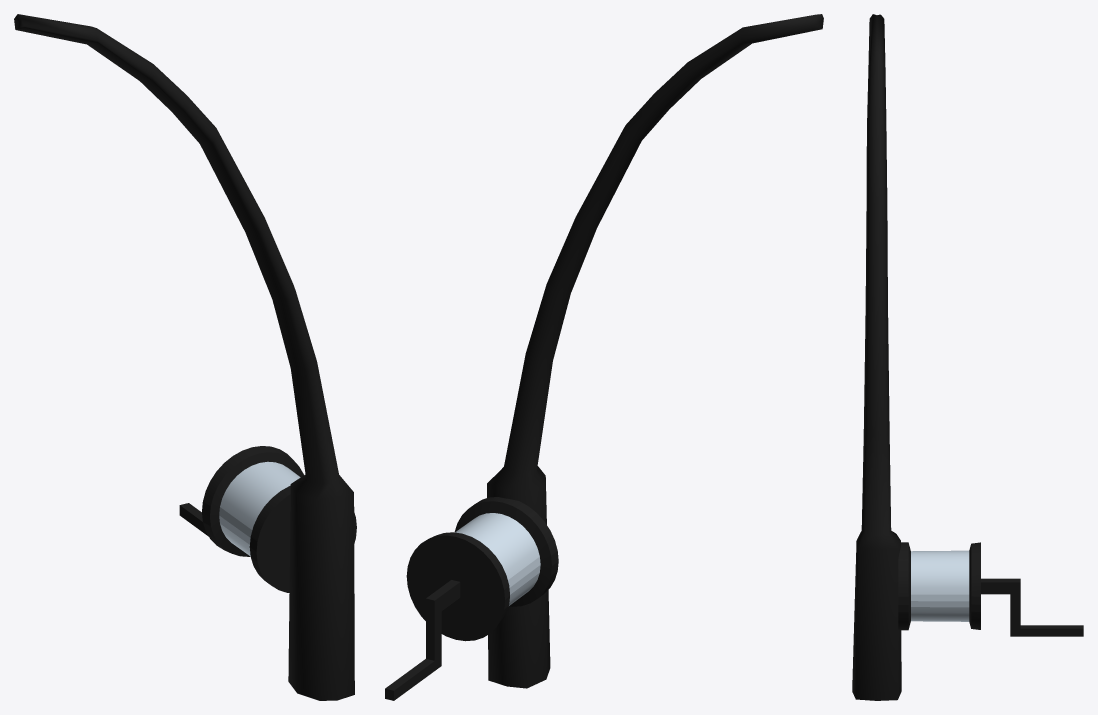
Rendered from rod.fbx.
3 views of the same model, side by side, from view 1: azimuth 30°, elevation 25°; view 2: azimuth 150°, elevation 25°; view 3: azimuth 270°, elevation 25° (orthographic). The views are drawn at different scales.
Visible parts, largest first — view 1: Cube, Cube.001; view 2: Cube, Cube.001, Cube.002; view 3: Cube, Cube.001, Cube.002.
Part boxes in pixels (x1,y1,x2,y2): Cube: [14, 14, 354, 700]; Cube.001: [202, 446, 356, 592]; Cube: [487, 14, 823, 688]; Cube.001: [406, 497, 558, 641]; Cube.002: [385, 580, 460, 700]; Cube: [852, 14, 901, 700]; Cube.001: [898, 542, 980, 630]; Cube.002: [981, 578, 1083, 636].
Bounding box in the file's own units: 171 × 344 × 128.
